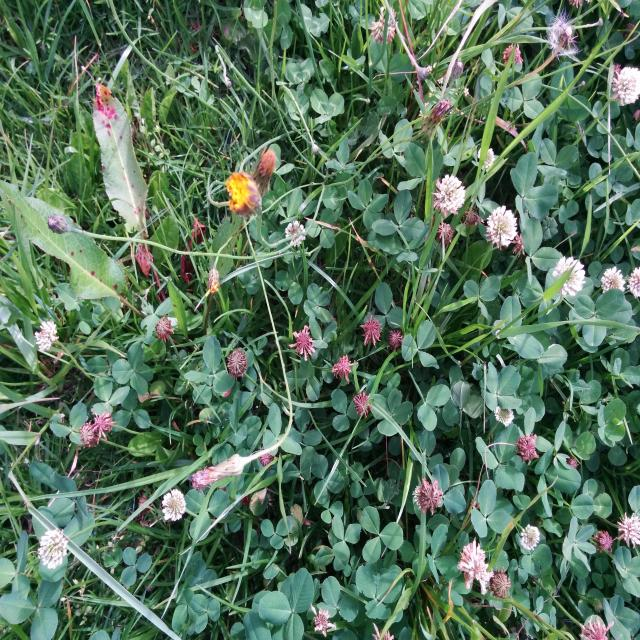Four Leaf Clover: (112, 344, 154, 396), (371, 388, 413, 436), (481, 362, 522, 411), (562, 516, 596, 572), (598, 398, 626, 447), (303, 284, 332, 323)
